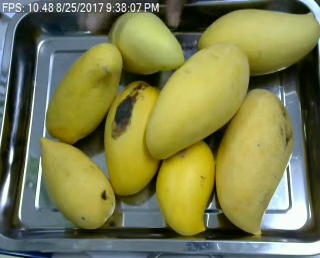Mango: (215, 85, 296, 239), (143, 45, 253, 158), (101, 72, 174, 198), (196, 1, 319, 74), (31, 133, 121, 228), (40, 39, 123, 141), (152, 139, 226, 237), (99, 11, 185, 74)
